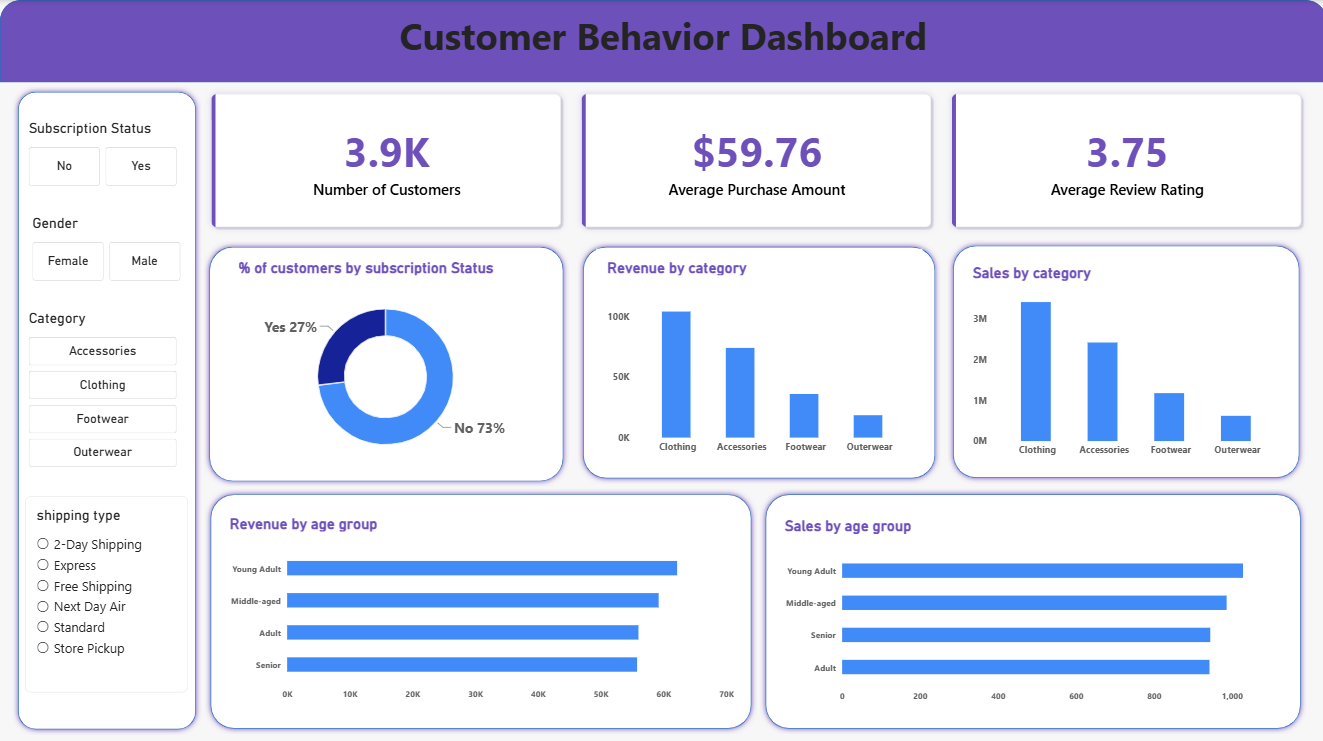

Layout of this report page (visuals, bound fields, positions):
{"tool":"powerbi","page":{"name":"Page 1","canvas":[1920,1080],"ordinal":0},"visuals":[{"type":"cardVisual","fields":{"Data":["public customer.Number of Customers","public customer.Average Purchase Amount","public customer.Average Review Rating"]},"box":[295,125,1600,215],"z":0},{"type":"shape","box":[0,0,1920.4,119.4],"z":1000},{"type":"textbox","box":[0,14.4,1920.4,119.4],"z":2000},{"type":"shape","box":[295.4,348.5,528.9,355.6],"z":3000},{"type":"donutChart","title":"% of customers by subscription Status","fields":{"Category":["public customer.subscription_status"],"Y":["CountNonNull(public customer.customer_id)"]},"box":[330,360,457.3,331.9],"z":4000},{"type":"shape","box":[1372.5,347.5,517.5,352.5],"z":5000},{"type":"shape","box":[835.5,348.6,525.7,351.4],"z":6000},{"type":"clusteredColumnChart","title":"Revenue by category","fields":{"Category":["public customer.category"],"Y":["Sum(public customer.purchase_amount)"]},"box":[864,360,472,316],"z":7000},{"type":"clusteredColumnChart","title":"Sales by category","fields":{"Category":["public customer.category"],"Y":["Sum(public customer.customer_id)"]},"box":[1392,367,480,315],"z":8000},{"type":"shape","box":[17.3,125.5,273.6,939.1],"z":9000},{"type":"advancedSlicerVisual","title":"Subscription Status","fields":{"Values":["public customer.subscription_status"]},"box":[41.4,172.9,214,96],"z":10000},{"type":"advancedSlicerVisual","title":"Gender","fields":{"Values":["public customer.gender"]},"box":[47.1,311.4,214,96],"z":11000},{"type":"advancedSlicerVisual","title":"Category","fields":{"Values":["public customer.category"]},"box":[41.8,448.2,214,228],"z":12000},{"type":"listSlicer","title":"shipping type","fields":{"Values":["public customer.shipping_type"]},"box":[36,718,236,284],"z":13000},{"type":"shape","box":[296.4,708.2,799.1,355.5],"z":14000},{"type":"clusteredBarChart","title":"Revenue by age group","fields":{"Category":["public customer.age_group"],"Y":["Sum(public customer.purchase_amount)"]},"box":[316,732,762,302],"z":15000},{"type":"shape","box":[1100,708.2,790.9,355.5],"z":15001},{"type":"clusteredBarChart","title":"Sales by age group","fields":{"Category":["public customer.age_group"],"Y":["CountNonNull(public customer.customer_id)"]},"box":[1120,735,752,302],"z":15002}]}

Visuals, with their boxes in screenshot pixels (x1, y1, x2, y2), scaled from the page's 1920x1080 canvas onto the 1323x741 screenshot:
cardVisual - public customer.Number of Customers x public customer.Average Purchase Amount: box=[203, 86, 1306, 233]
shape: box=[0, 0, 1322, 82]
textbox: box=[0, 10, 1322, 92]
shape: box=[204, 239, 568, 483]
"% of customers by subscription Status" donutChart: box=[227, 247, 542, 475]
shape: box=[946, 238, 1302, 480]
shape: box=[576, 239, 938, 480]
"Revenue by category" clusteredColumnChart: box=[595, 247, 921, 464]
"Sales by category" clusteredColumnChart: box=[959, 252, 1290, 468]
shape: box=[12, 86, 200, 730]
"Subscription Status" advancedSlicerVisual: box=[29, 119, 176, 184]
"Gender" advancedSlicerVisual: box=[32, 214, 180, 280]
"Category" advancedSlicerVisual: box=[29, 308, 176, 464]
"shipping type" listSlicer: box=[25, 493, 187, 687]
shape: box=[204, 486, 755, 730]
"Revenue by age group" clusteredBarChart: box=[218, 502, 743, 709]
shape: box=[758, 486, 1303, 730]
"Sales by age group" clusteredBarChart: box=[772, 504, 1290, 711]
